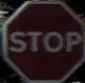Stop: (5, 4, 81, 73)
